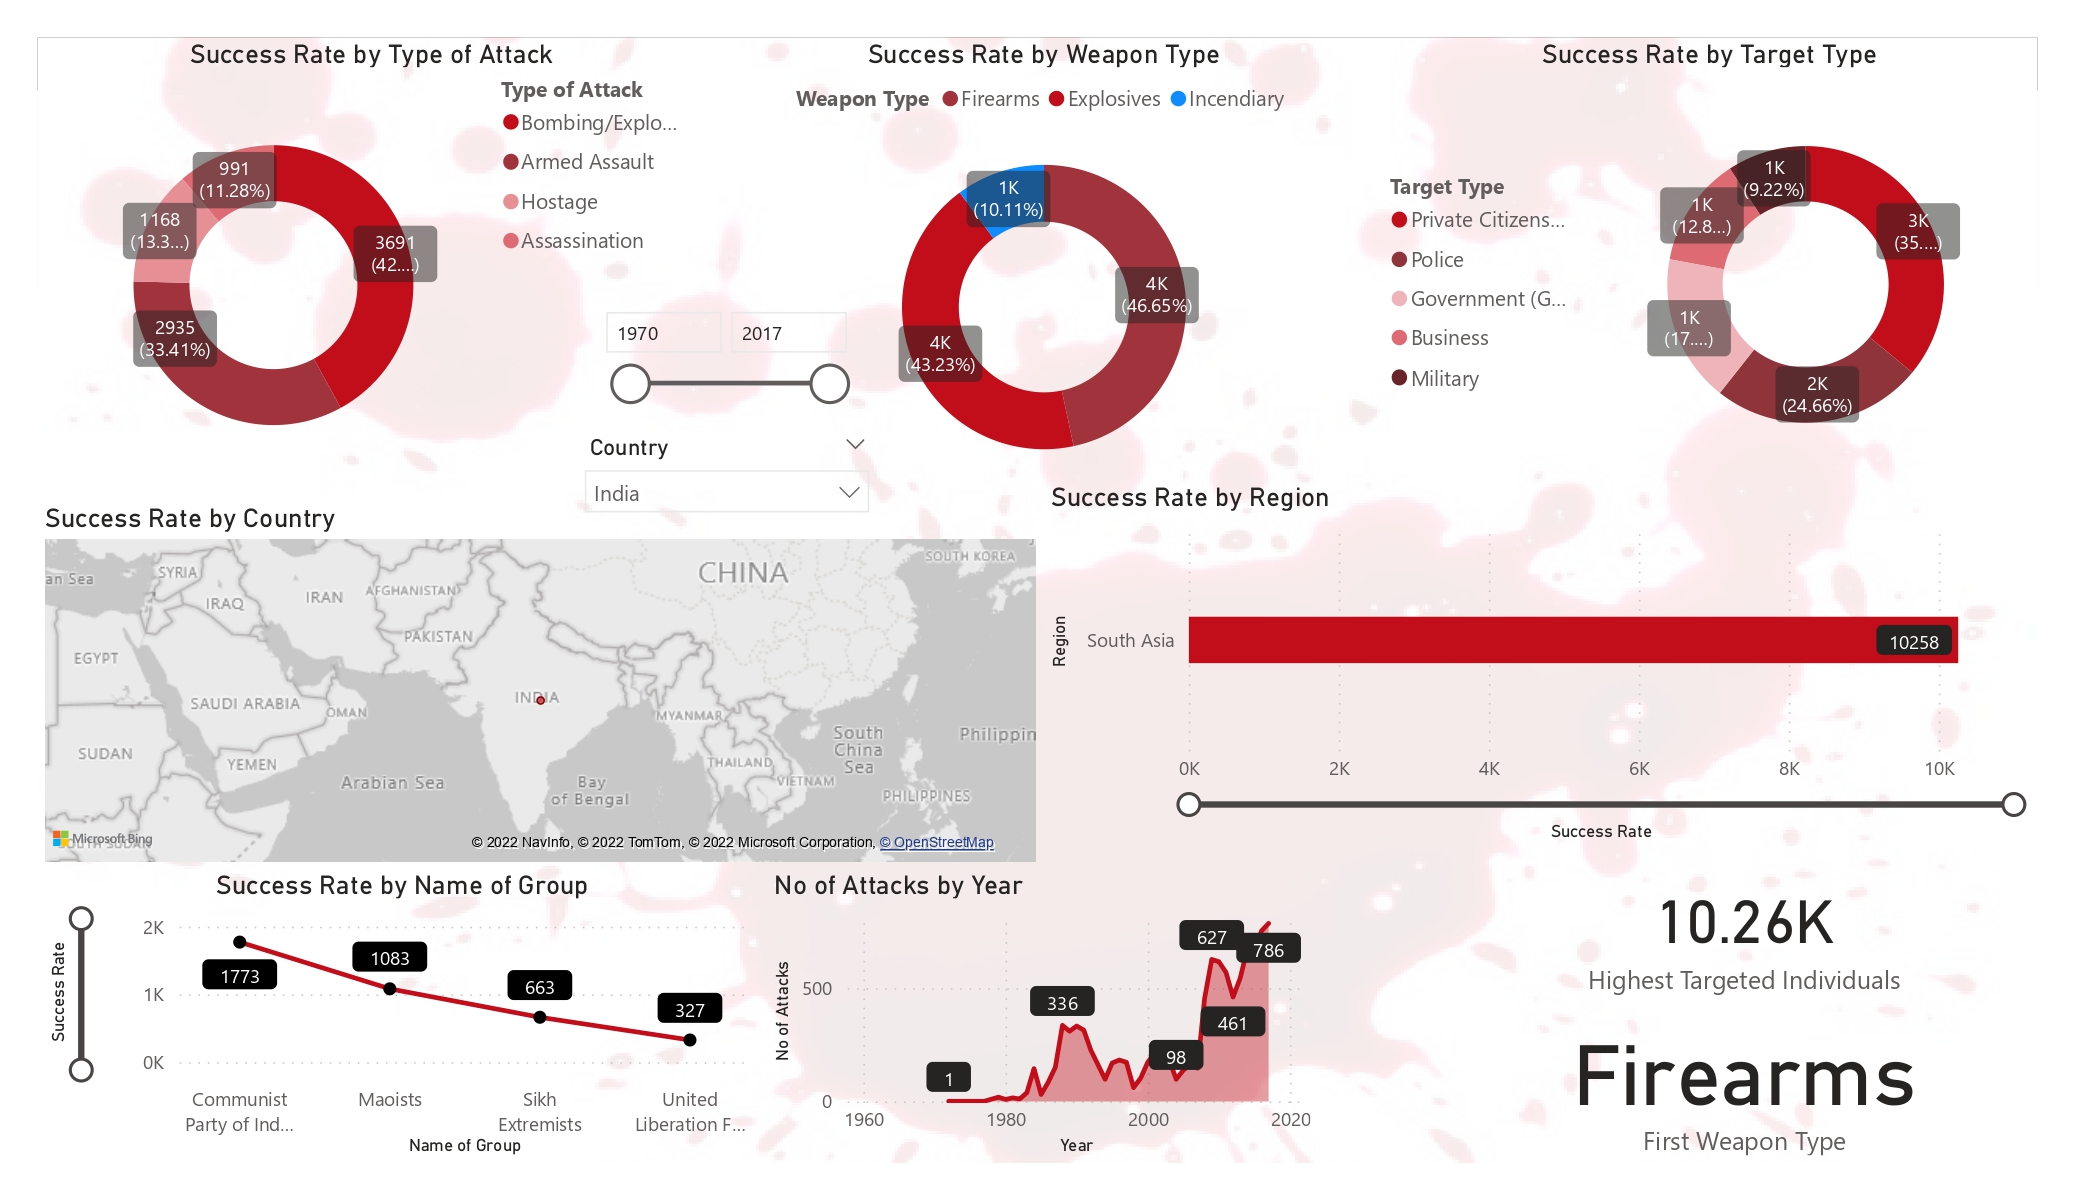

The dashboard page shown, as its layout file describes it:
{"tool":"powerbi","page":{"name":"Page 1","canvas":[1280,720],"ordinal":0},"visuals":[{"type":"donutChart","fields":{"Category":["Final Data.Type of Attack"],"Y":["Sum(Final Data.Success Rate)"]},"box":[0,0,427.5,297.5],"z":0},{"type":"donutChart","fields":{"Category":["Final Data.Weapon Type"],"Y":["Sum(Final Data.Success Rate)"]},"box":[427,0,434,297],"z":1000},{"type":"lineChart","fields":{"Y":["Sum(Final Data.Success Rate)"],"Category":["Final Data.Name of Group"]},"box":[0,532,467,188],"z":2000},{"type":"map","fields":{"Category":["Final Data.Country"],"Size":["Sum(Final Data.Success Rate)"]},"box":[0,297,644,235],"z":3000},{"type":"slicer","fields":{"Values":["Final Data.Country"]},"box":[340,249,202,70],"z":4000},{"type":"barChart","fields":{"Category":["Final Data.Region"],"Y":["Sum(Final Data.Success Rate)"]},"box":[644,284,636,235],"z":5000},{"type":"donutChart","fields":{"Y":["Sum(Final Data.Success Rate)"],"Category":["Final Data.Target Type"]},"box":[861,0,419,297],"z":6000},{"type":"slicer","fields":{"Values":["Final Data.Year"]},"box":[351,166,177,80],"z":7000},{"type":"areaChart","fields":{"Category":["Final Data.Year"],"Y":["CountNonNull(Final Data.Year)"]},"box":[467,532,353,188],"z":8000},{"type":"card","fields":{"Values":["CountNonNull(Final Data.Target Type)"]},"box":[962,519,261,107],"z":9000},{"type":"card","fields":{"Values":["Min(Final Data.Weapon Type)"]},"box":[948,614,290,106],"z":10000}]}

Visuals, with their boxes on the page's 1280x720 design canvas (x1, y1, x2, y2). These are canvas units, not pixel positions in the 2075x1200 screenshot, which may show the page scaled, cropped or inside an application window:
donutChart - Final Data.Type of Attack x Sum(Final Data.Success Rate): 0:0:428:298
donutChart - Final Data.Weapon Type x Sum(Final Data.Success Rate): 427:0:861:297
lineChart - Sum(Final Data.Success Rate) x Final Data.Name of Group: 0:532:467:720
map - Final Data.Country x Sum(Final Data.Success Rate): 0:297:644:532
slicer - Final Data.Country: 340:249:542:319
barChart - Final Data.Region x Sum(Final Data.Success Rate): 644:284:1280:519
donutChart - Sum(Final Data.Success Rate) x Final Data.Target Type: 861:0:1280:297
slicer - Final Data.Year: 351:166:528:246
areaChart - Final Data.Year x CountNonNull(Final Data.Year): 467:532:820:720
card - CountNonNull(Final Data.Target Type): 962:519:1223:626
card - Min(Final Data.Weapon Type): 948:614:1238:720
